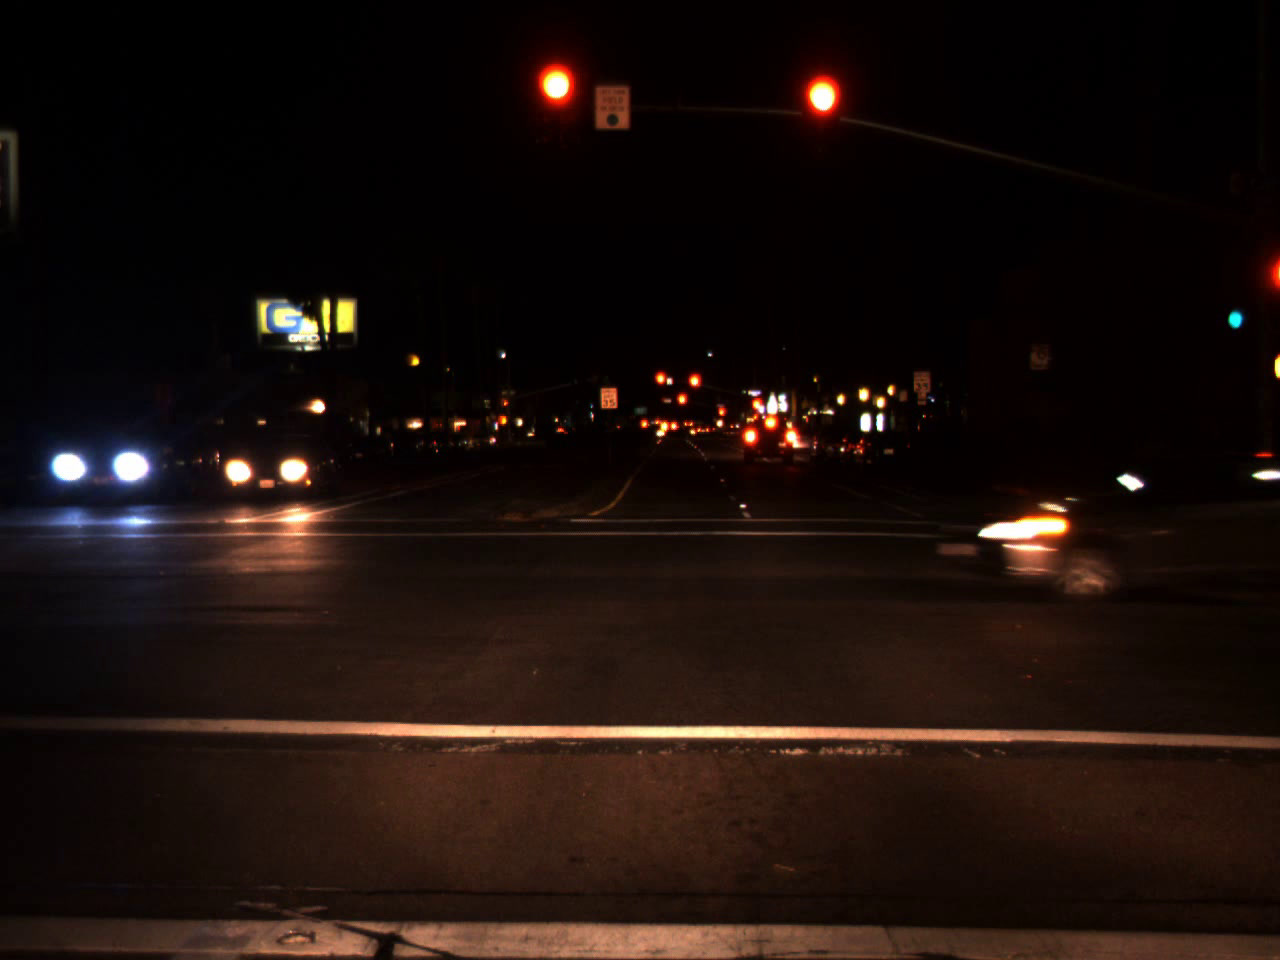stop: (537, 65, 577, 143), (802, 75, 841, 153), (686, 372, 702, 401), (653, 370, 666, 399), (675, 391, 688, 418), (749, 396, 764, 414), (717, 406, 727, 427), (503, 398, 509, 414)
